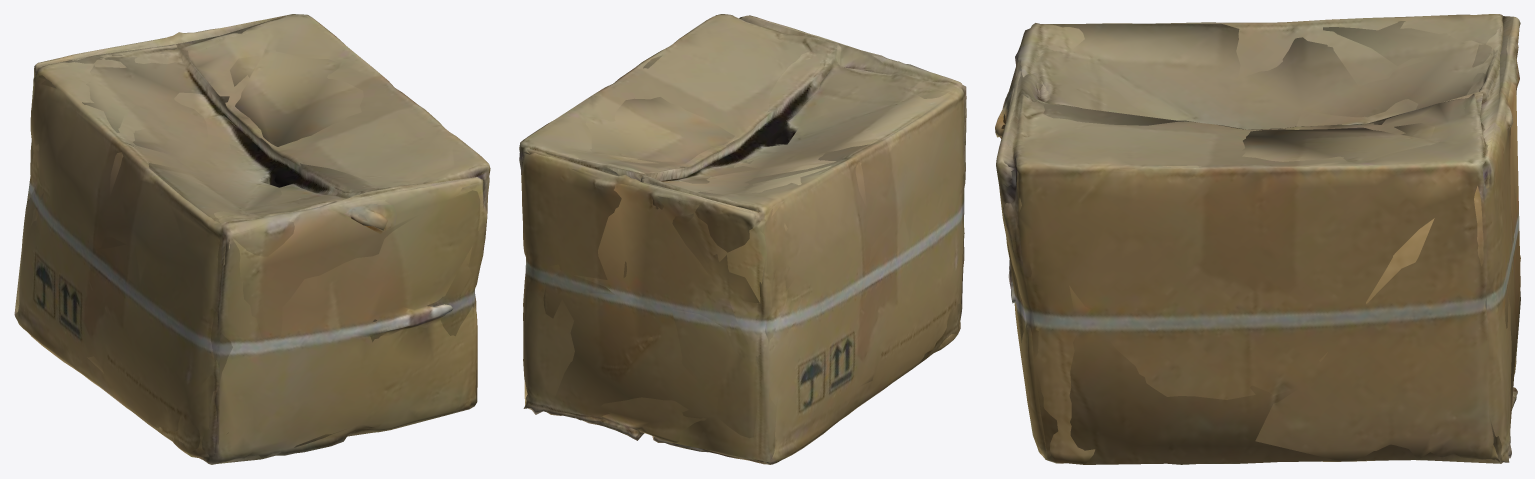
File: cardboard_box_01.glb
3 renders of one model, left to right at view 1: azimuth 30°, elevation 25°; view 2: azimuth 150°, elevation 25°; view 3: azimuth 270°, elevation 25°, orthographic. The views are drawn at different scales.
Visible parts, largest first — view 1: cardboard_box_01, cardboard_box_01_lo; view 2: cardboard_box_01, cardboard_box_01_lo; view 3: cardboard_box_01, cardboard_box_01_lo.
Part boxes in pixels (box(x1,y1,x2,y2)): cardboard_box_01: box(14, 14, 490, 464); cardboard_box_01_lo: box(14, 14, 488, 463); cardboard_box_01: box(519, 14, 966, 464); cardboard_box_01_lo: box(520, 16, 965, 463); cardboard_box_01: box(995, 14, 1520, 464); cardboard_box_01_lo: box(996, 16, 1520, 464).
Size of the model in its own units: 0.3868 by 0.3418 by 0.5159.
1 material, 1 textured.
